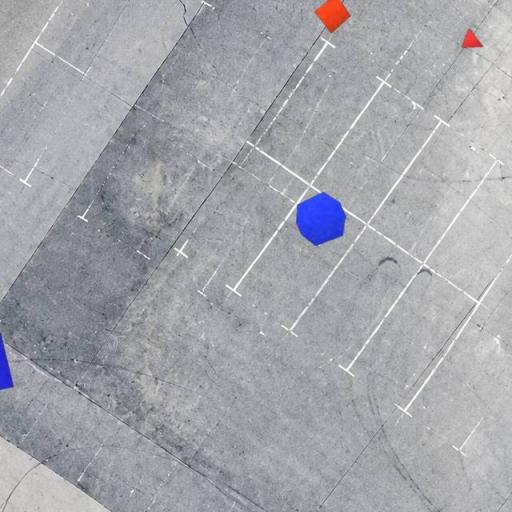RED_SQUARE: (313, 0, 352, 34)
